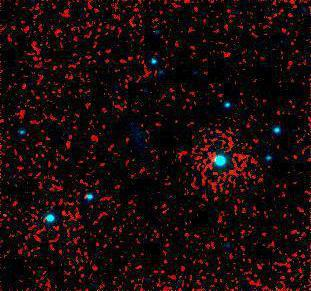star: (0, 200, 22, 230)
